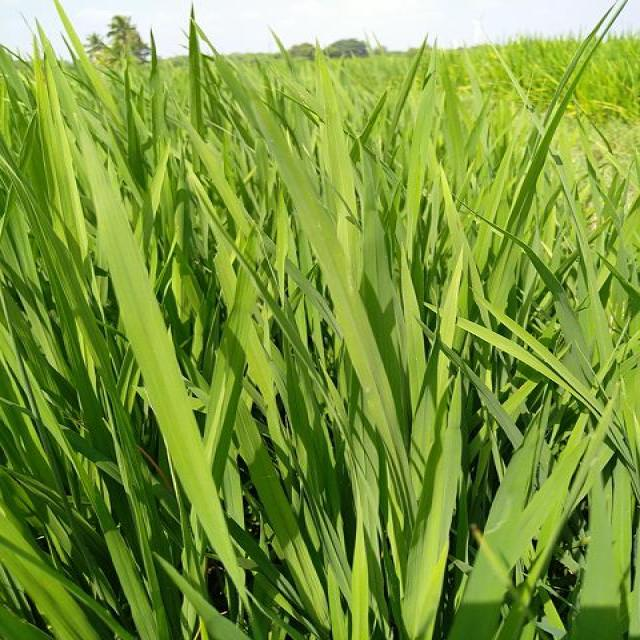Rice: (85, 182, 233, 640), (401, 385, 468, 640), (328, 285, 404, 474), (314, 42, 369, 284), (236, 76, 314, 232), (19, 43, 79, 244), (400, 50, 438, 283), (429, 251, 467, 383), (233, 231, 263, 342), (404, 283, 426, 384), (84, 124, 114, 183)
